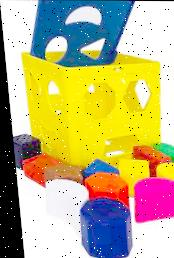cube: (20, 52, 166, 161)
